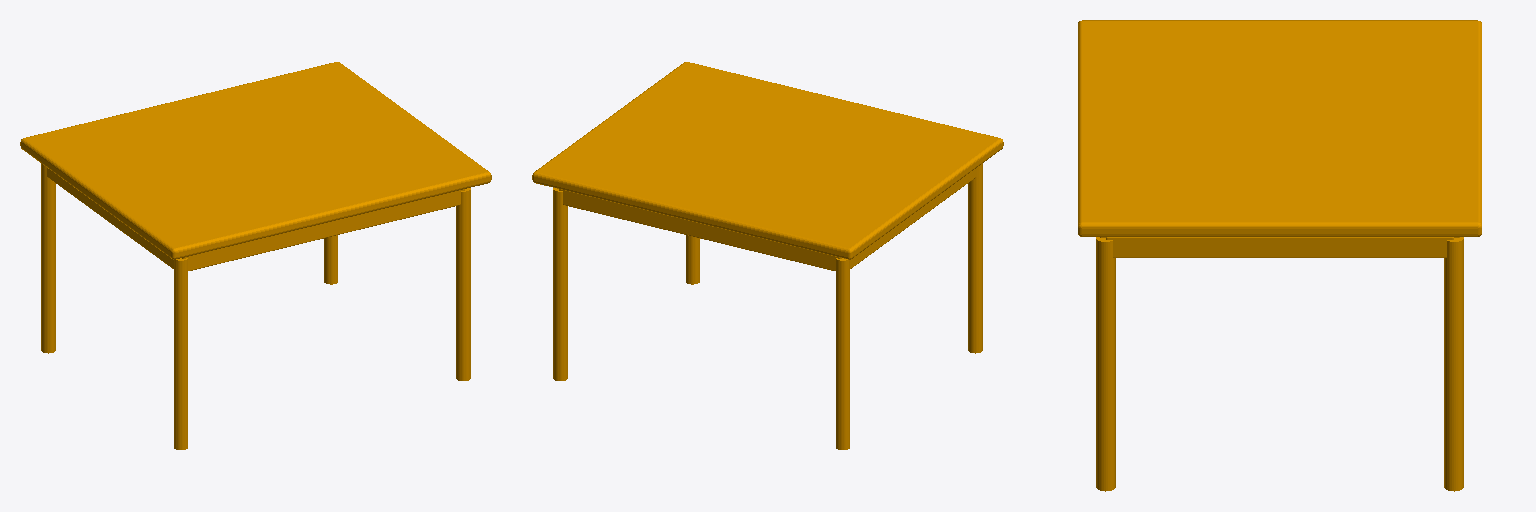
The robot description file, URDF, robot "table":
<?xml version="1.0"?>
<!-- Generated by tools/build_assets.py - do not edit. -->
<robot name="table">
  <link name="table">
    <inertial><origin xyz="0.00000 0.30000 0.73000" rpy="0 0 0"/><mass value="20.0"/><inertia ixx="1.669e+00" ixy="0" ixz="0" iyy="2.403e+00" iyz="0" izz="4.067e+00"/></inertial>
    <visual><origin xyz="0 0 0" rpy="0 0 0"/><geometry><mesh filename="meshes/table_top.obj" scale="1 1 1"/></geometry></visual>
    <visual><origin xyz="0 0 0" rpy="0 0 0"/><geometry><mesh filename="meshes/table_frame.obj" scale="1 1 1"/></geometry></visual>
    <collision><origin xyz="0.00000 0.30000 0.73000" rpy="0.00000 0.00000 0.00000"/><geometry><box size="1.20000 1.00000 0.04000"/></geometry></collision>
  </link>
</robot>

--- Facts derived from the render (not from the file) ---
3 views of the same robot in one strip: view 1: azimuth 30°, elevation 25°; view 2: azimuth 150°, elevation 25°; view 3: azimuth 270°, elevation 25° (orthographic).
Robot: table — 1 links, 0 joints (none); root link table; default pose: all joints at 0.
Links seen in each view (by area): view 1: table; view 2: table; view 3: table.
Boxes of the visible links, <box> form: table: <box>20,62,491,449</box>; table: <box>532,62,1003,449</box>; table: <box>1078,20,1481,491</box>.
Size in the robot's own frame: 1.2 by 1 by 0.75 metres.
Meshes: 2 distinct files referenced, 2 mesh visuals loaded (2 OBJ).
